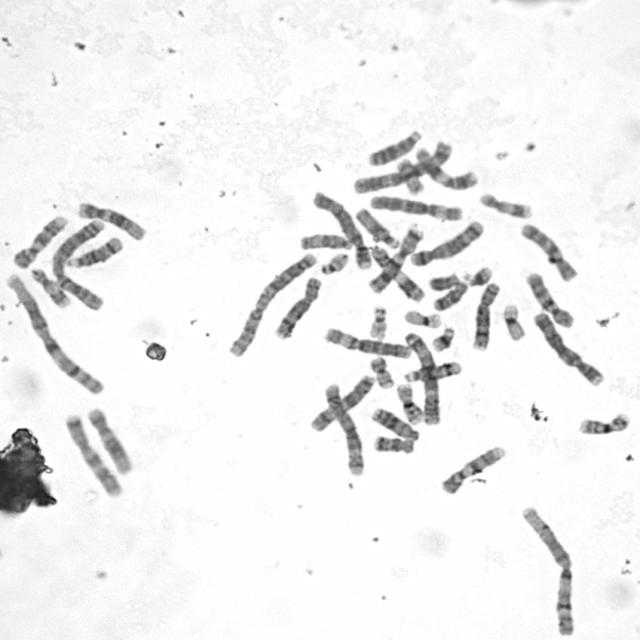A1: (5, 267, 106, 398), (517, 502, 578, 639)
A2: (224, 248, 320, 358), (47, 214, 107, 311)
A3: (349, 139, 455, 195), (400, 328, 442, 427)
B4: (531, 308, 607, 388), (308, 188, 372, 272)
B5: (321, 380, 366, 477), (407, 218, 486, 268)
C10: (518, 220, 579, 284), (522, 268, 576, 328)
C11: (366, 243, 426, 304), (412, 144, 479, 192)
C12: (85, 403, 134, 476), (74, 199, 148, 242)
C6: (320, 324, 412, 361), (366, 192, 464, 222)
C7: (62, 409, 124, 499), (365, 223, 426, 297)
C8: (272, 274, 324, 340), (468, 279, 503, 352)
C9: (439, 442, 508, 496), (9, 211, 71, 270)
D13: (364, 128, 423, 168), (368, 404, 421, 442)
D14: (64, 233, 125, 269), (401, 358, 463, 384)
D15: (352, 205, 401, 251), (296, 231, 355, 251)
E16: (574, 409, 631, 436), (393, 380, 425, 425)
E17: (28, 265, 72, 310), (476, 190, 534, 220)
E18: (430, 279, 470, 312), (369, 433, 417, 456)
F19: (499, 300, 528, 342), (400, 306, 444, 330)
F20: (393, 155, 426, 196), (367, 353, 396, 390)
G21: (429, 324, 458, 354), (460, 263, 494, 287)
G22: (366, 303, 390, 341), (317, 250, 351, 276)
X: (307, 372, 376, 434)
Y: (426, 270, 460, 292)
